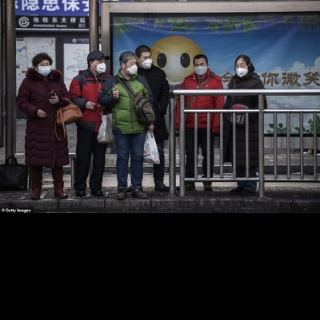with_mask: (36, 62, 52, 76), (194, 61, 208, 76), (125, 60, 138, 76), (235, 62, 248, 78), (94, 60, 107, 74), (140, 54, 152, 69)
